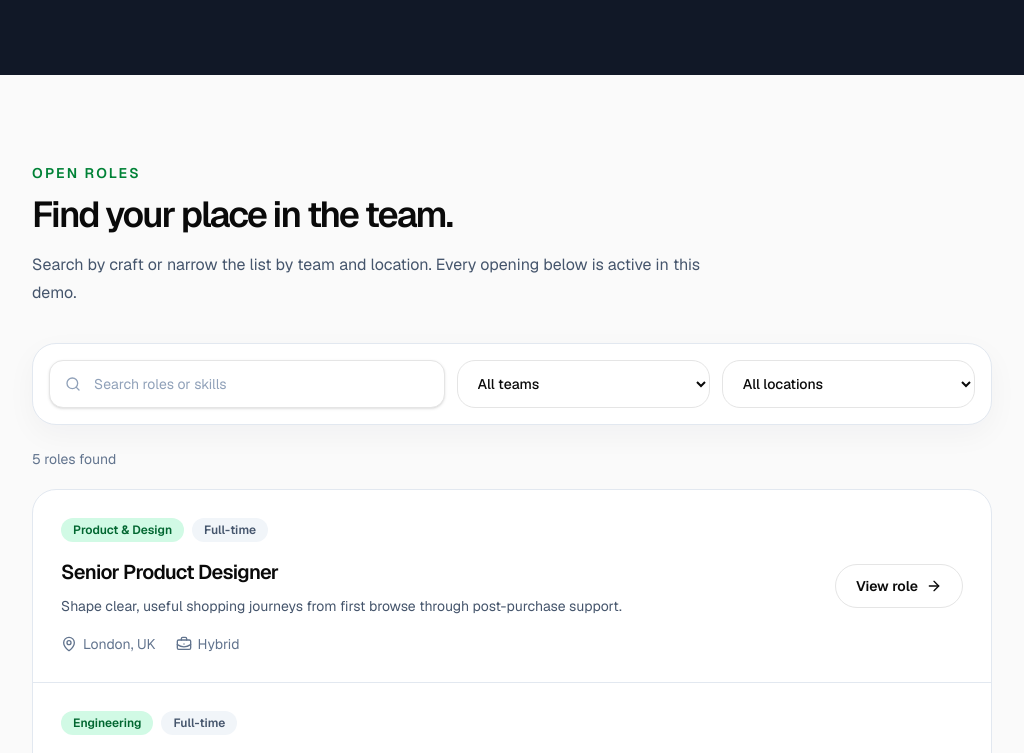
Test case: careers page › renders realistic roles and filters them by team
(page scrolled)
Expected: the text "5 roles found" is shown, [32, 449, 116, 469]
Select "Engineering" in the 1st dropdown named "Filter by team": (583, 384) [457, 360, 710, 408]
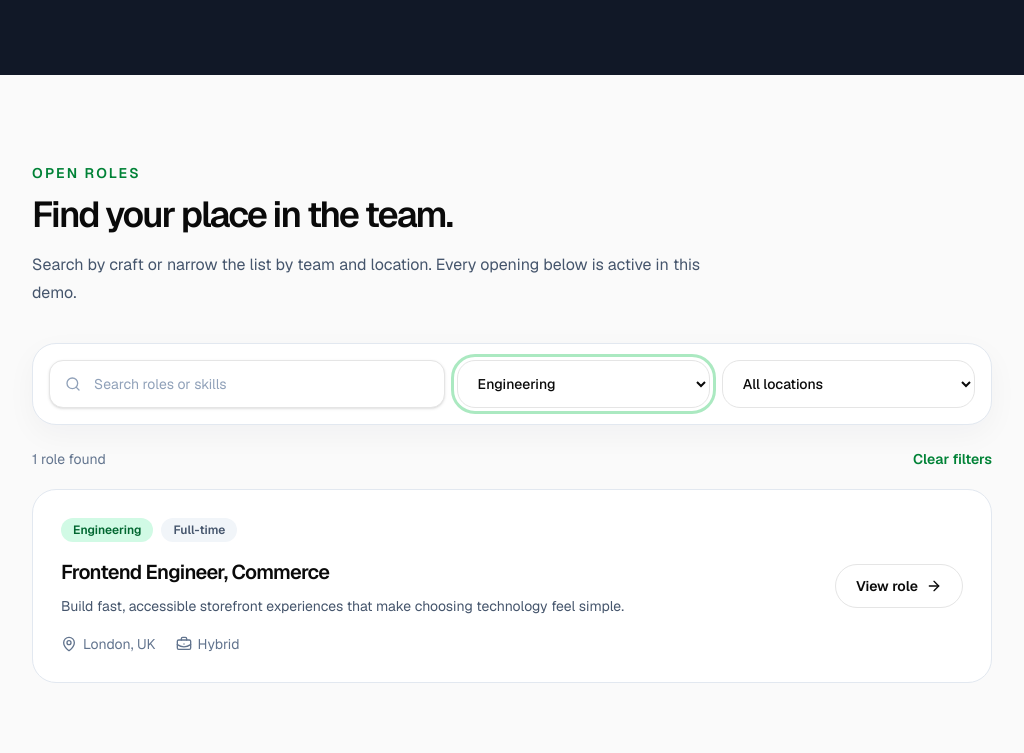
Expected: the heading "Frontend Engineer, Commerce" is shown, [61, 559, 329, 585]
Expected: the text "1 role found" is shown, [32, 449, 106, 469]
